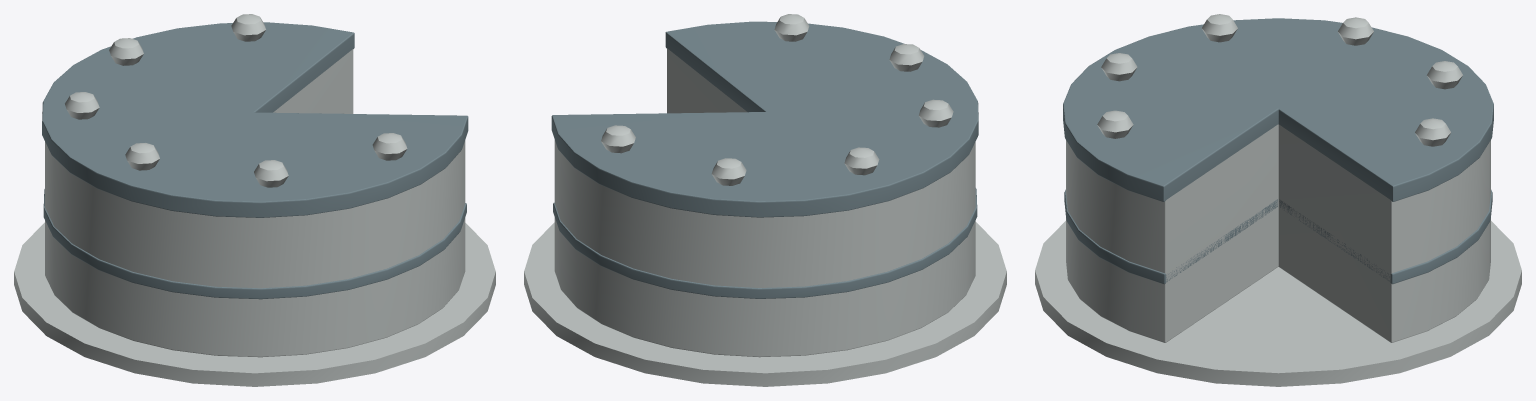
File: cake.glb
3 renders of one model, left to right at view 1: azimuth 30°, elevation 25°; view 2: azimuth 150°, elevation 25°; view 3: azimuth 270°, elevation 25°, orthographic.
Parts seen in each view (by area): view 1: cut_cake, frosting, cake_board, filling_layer, piped_rosette.004, piped_rosette.005, piped_rosette.003, piped_rosette.001, piped_rosette, piped_rosette.002; view 2: cut_cake, frosting, cake_board, filling_layer, piped_rosette.002, piped_rosette.004, piped_rosette.003, piped_rosette, piped_rosette.001, piped_rosette.005; view 3: cut_cake, frosting, cake_board, filling_layer, piped_rosette.005, piped_rosette.001, piped_rosette.003, piped_rosette, piped_rosette.002, piped_rosette.004.
Part boxes in pixels (left/top/right/bottom): cut_cake: left=45, top=49, right=465, bottom=357; frosting: left=42, top=22, right=468, bottom=217; cake_board: left=14, top=222, right=495, bottom=386; filling_layer: left=43, top=189, right=466, bottom=299; piped_rosette.004: left=109, top=38, right=143, bottom=65; piped_rosette.005: left=231, top=14, right=265, bottom=41; piped_rosette.003: left=65, top=92, right=99, bottom=119; piped_rosette.001: left=254, top=160, right=288, bottom=187; piped_rosette: left=372, top=133, right=407, bottom=160; piped_rosette.002: left=125, top=143, right=159, bottom=170; cut_cake: left=554, top=48, right=975, bottom=357; frosting: left=551, top=21, right=978, bottom=217; cake_board: left=524, top=222, right=1006, bottom=386; filling_layer: left=553, top=188, right=977, bottom=298; piped_rosette.002: left=918, top=99, right=953, bottom=127; piped_rosette.004: left=711, top=158, right=746, bottom=185; piped_rosette.003: left=844, top=147, right=879, bottom=175; piped_rosette: left=774, top=14, right=809, bottom=41; piped_rosette.001: left=889, top=44, right=924, bottom=71; piped_rosette.005: left=601, top=125, right=635, bottom=153; cut_cake: left=1066, top=124, right=1490, bottom=342; frosting: left=1063, top=18, right=1493, bottom=201; cake_board: left=1035, top=221, right=1521, bottom=386; filling_layer: left=1064, top=189, right=1492, bottom=284; piped_rosette.005: left=1415, top=118, right=1451, bottom=146; piped_rosette.001: left=1101, top=53, right=1137, bottom=81; piped_rosette.003: left=1337, top=17, right=1373, bottom=45; piped_rosette: left=1097, top=110, right=1133, bottom=138; piped_rosette.002: left=1201, top=14, right=1237, bottom=42; piped_rosette.004: left=1427, top=61, right=1462, bottom=89.
Bounding box in the file's own units: 0.32 × 0.144 × 0.32.
